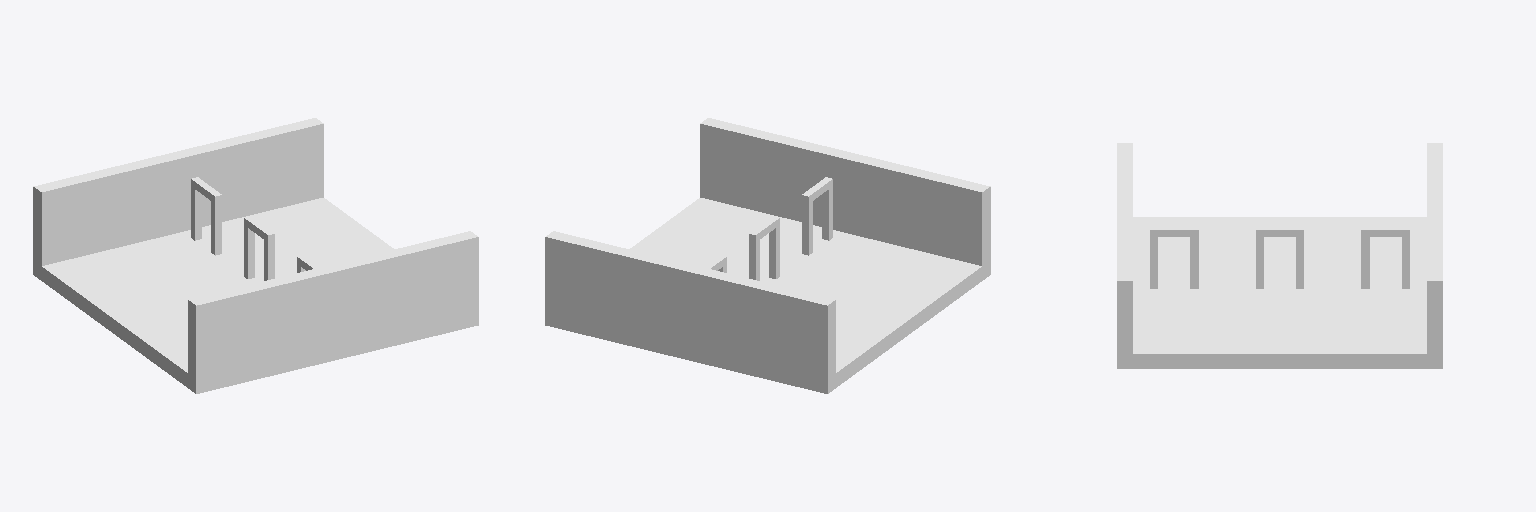
Rendered from module1.obj.
3 views of the same model, side by side, from view 1: azimuth 30°, elevation 25°; view 2: azimuth 150°, elevation 25°; view 3: azimuth 270°, elevation 25° (orthographic).
Visible parts, largest first — view 1: object 1; view 2: object 1; view 3: object 1.
Boxes of the visible parts, x1=… form: object 1: x1=33, y1=118, x2=478, y2=393; object 1: x1=545, y1=118, x2=990, y2=393; object 1: x1=1117, y1=143, x2=1442, y2=368.
Size of the model in its own units: 4 by 1.2 by 4.